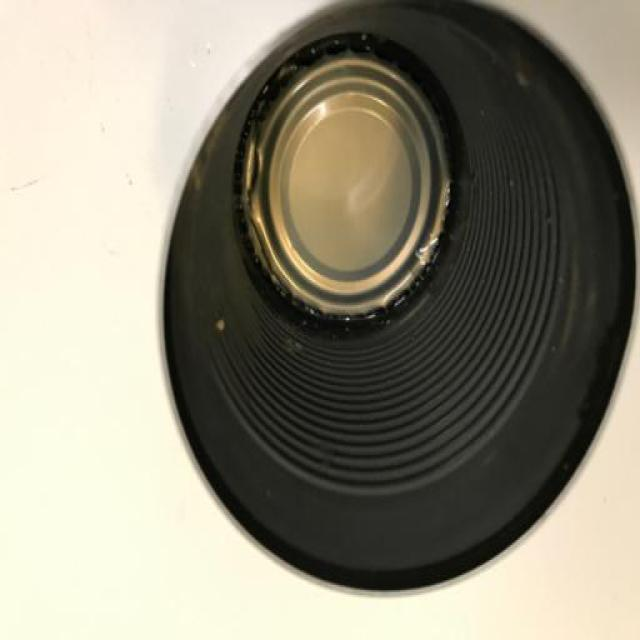Metal: (156, 0, 640, 597)
